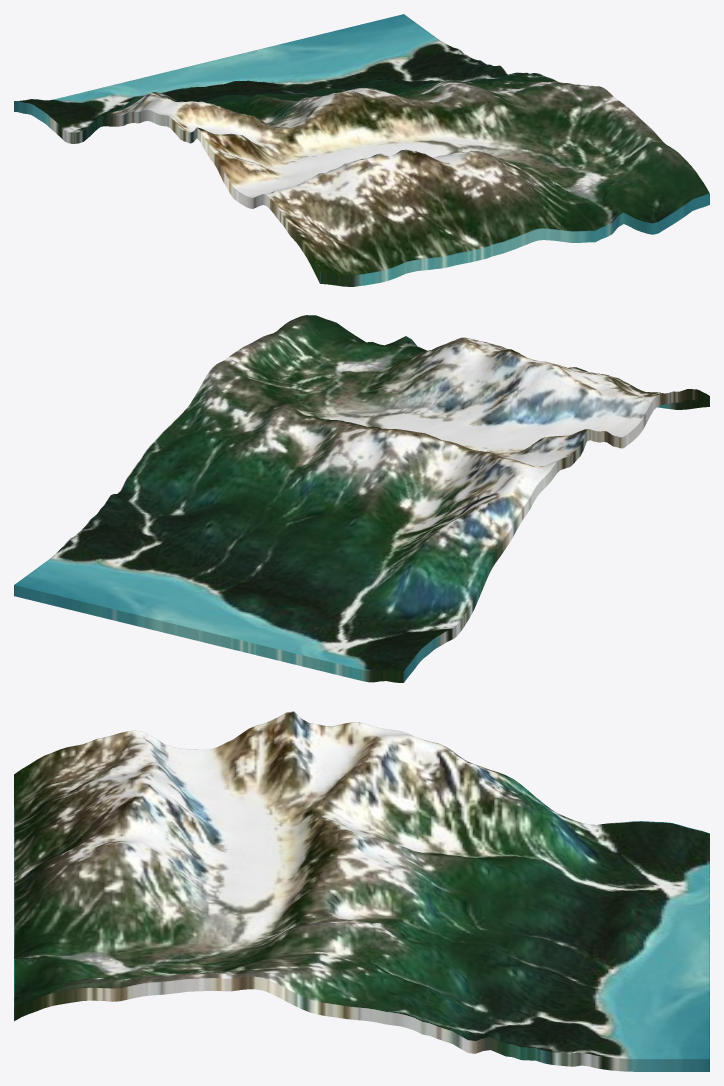
The picture shows the model from 3 angles, top to bottom: view 1: azimuth 30°, elevation 25°; view 2: azimuth 150°, elevation 25°; view 3: azimuth 270°, elevation 25°; orthographic projection. The views are drawn at different scales.
Parts seen in each view (by area): view 1: tile; view 2: tile; view 3: tile.
Boxes of the visible parts, x1=… form: tile: x1=14, y1=14, x2=709, y2=286; tile: x1=14, y1=315, x2=709, y2=682; tile: x1=14, y1=711, x2=709, y2=1071.
Size of the model in its own units: 4050 by 1259 by 5505.
Materials: 1 (1 with a texture image).
